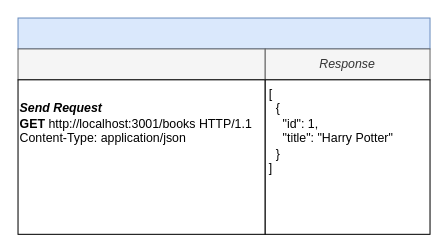
Some shapes in this 448 by 252 pixel diagram are drawn without their labels. Here are the shapes that lost their labels. From the top down, the centre of each, then its label:
At (x=223, y=33): "VSCode".
At (x=141, y=64): "api.http File".
